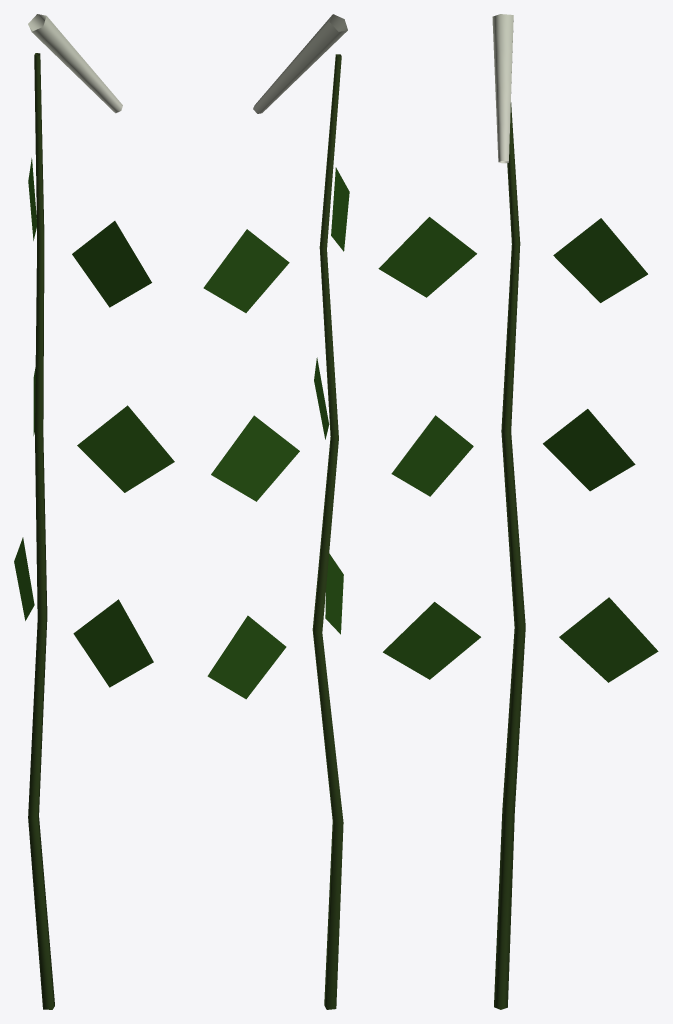
The model's file is Wetland_LizardsTail.glb.
The picture shows the model from 3 angles, left to right: view 1: azimuth 30°, elevation 25°; view 2: azimuth 150°, elevation 25°; view 3: azimuth 270°, elevation 25°; orthographic projection.
Parts seen in each view (by area): view 1: Wetland_LizardsTail; view 2: Wetland_LizardsTail; view 3: Wetland_LizardsTail.
Part boxes in pixels (left/top/right/bottom): Wetland_LizardsTail: left=14, top=14, right=174, bottom=1009; Wetland_LizardsTail: left=203, top=14, right=349, bottom=1009; Wetland_LizardsTail: left=378, top=14, right=658, bottom=1009.
Bounding box in the file's own units: 0.0911 × 0.9363 × 0.2396.
